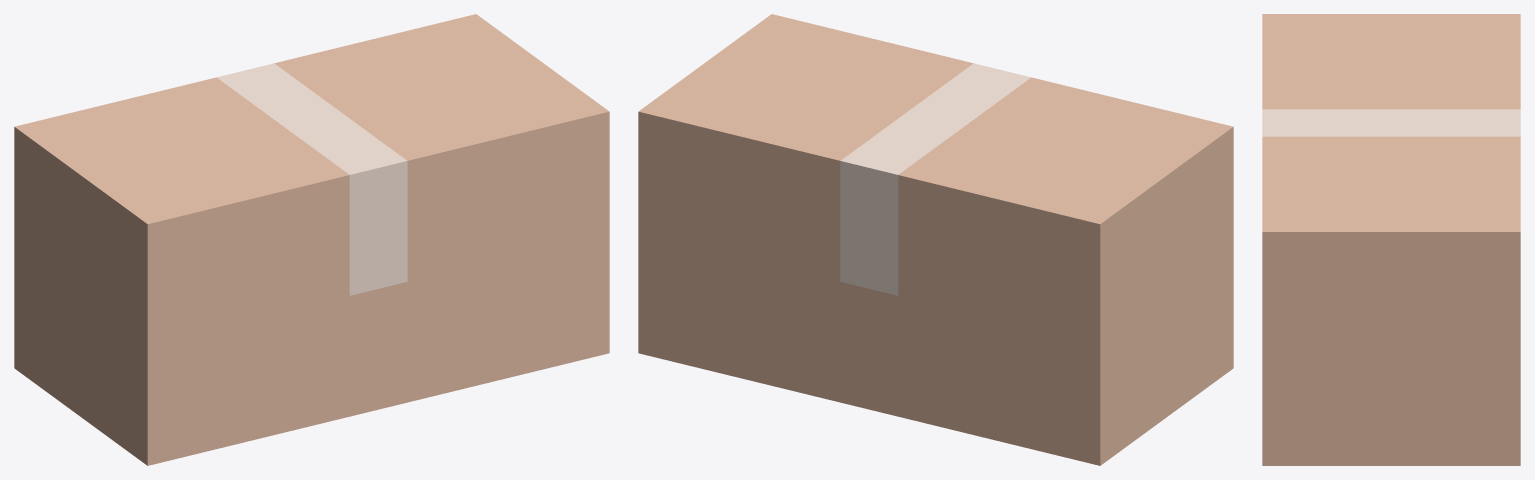
File: box-wide.fbx
3 renders of one model, left to right at view 1: azimuth 30°, elevation 25°; view 2: azimuth 150°, elevation 25°; view 3: azimuth 270°, elevation 25°, orthographic. The views are drawn at different scales.
Visible parts, largest first — view 1: box-wide; view 2: box-wide; view 3: box-wide.
Part boxes in pixels (box(x1,y1,x2,y2)): box-wide: box(14, 14, 609, 465); box-wide: box(638, 14, 1233, 465); box-wide: box(1262, 14, 1520, 465).
Size of the model in its own units: 100 by 50 by 50.
